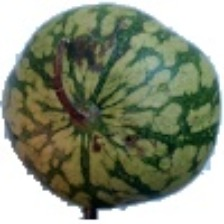watermelon: (24, 19, 164, 199)
